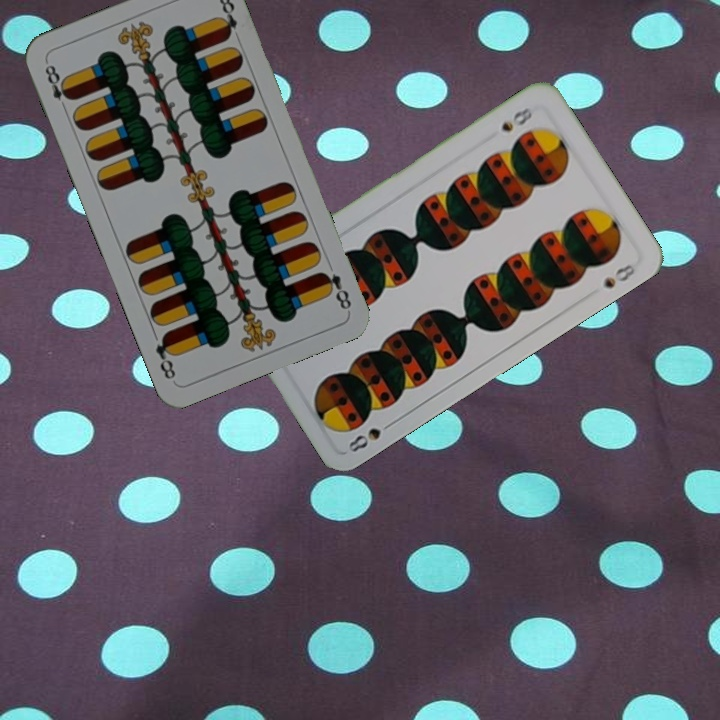E8: (40, 58, 75, 115), (316, 267, 354, 313)
S8: (343, 417, 398, 458), (497, 103, 535, 135)
